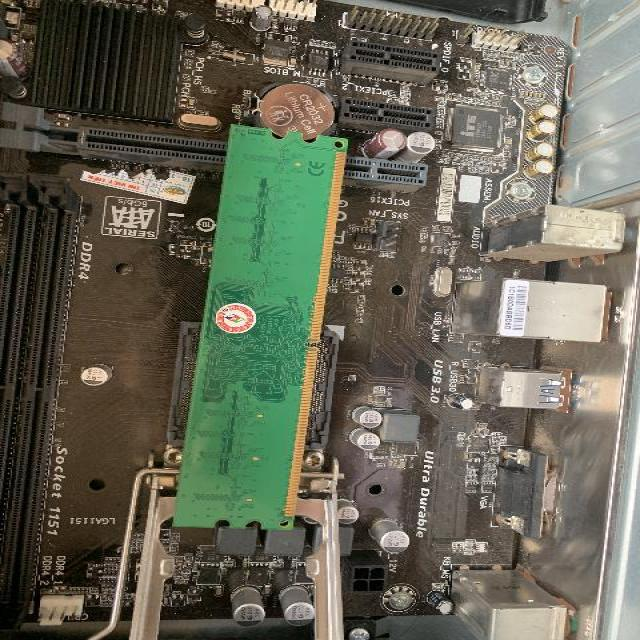Mainboard: (4, 1, 640, 640)
RAM: (169, 122, 347, 531)
